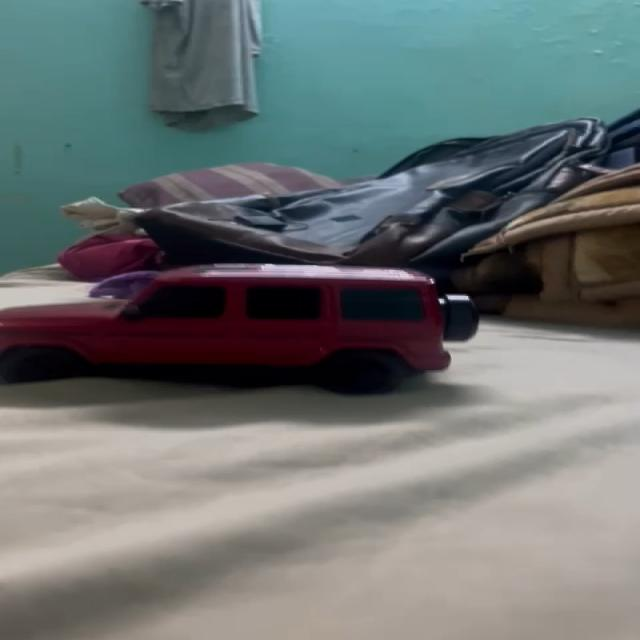light_vehicle: (6, 264, 476, 389)
